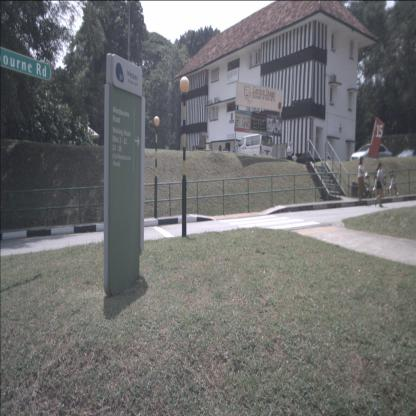human-pedestrian-adult: (374, 162, 384, 208), (357, 156, 365, 202), (287, 142, 292, 170)
vehicle-bicycle: (376, 166, 398, 197), (362, 169, 383, 198)
vehicle-car: (236, 133, 274, 163), (350, 143, 392, 168), (396, 149, 415, 165)
